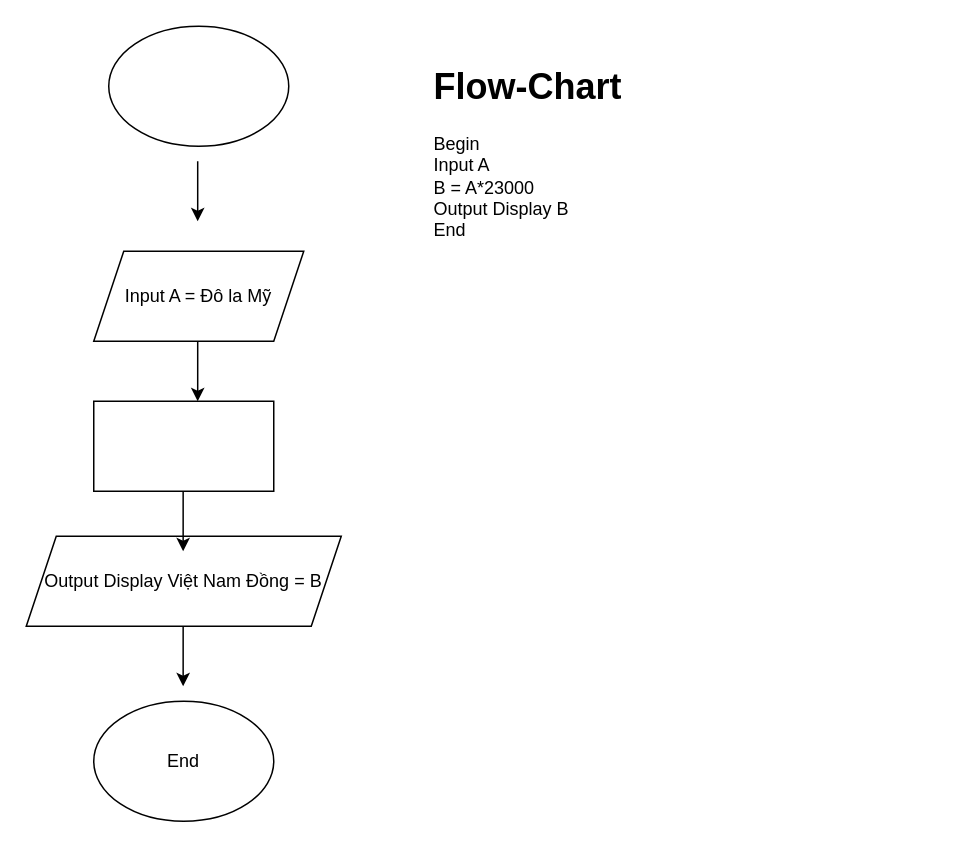
Image size: 968x848. Some labels were removed from this diagram. Each missing label, with the centre of its shape:
"B = A*23000" goes at pixel 183 445.
"Begin" goes at pixel 198 85.
